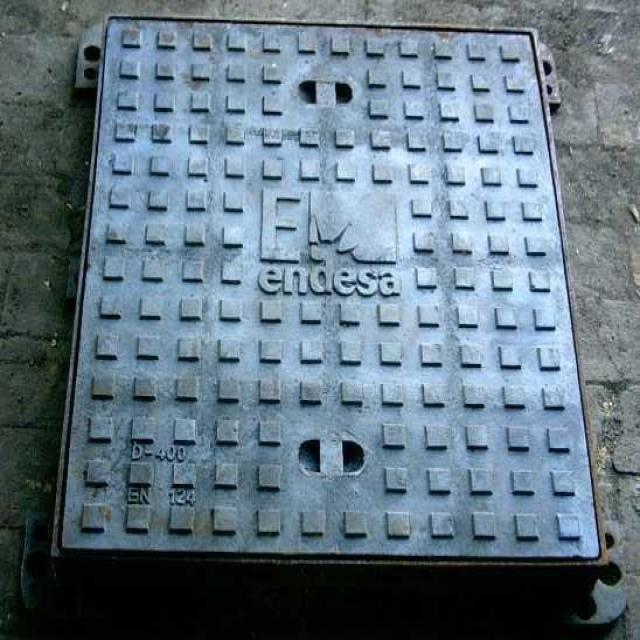manhole: (27, 15, 622, 637)
